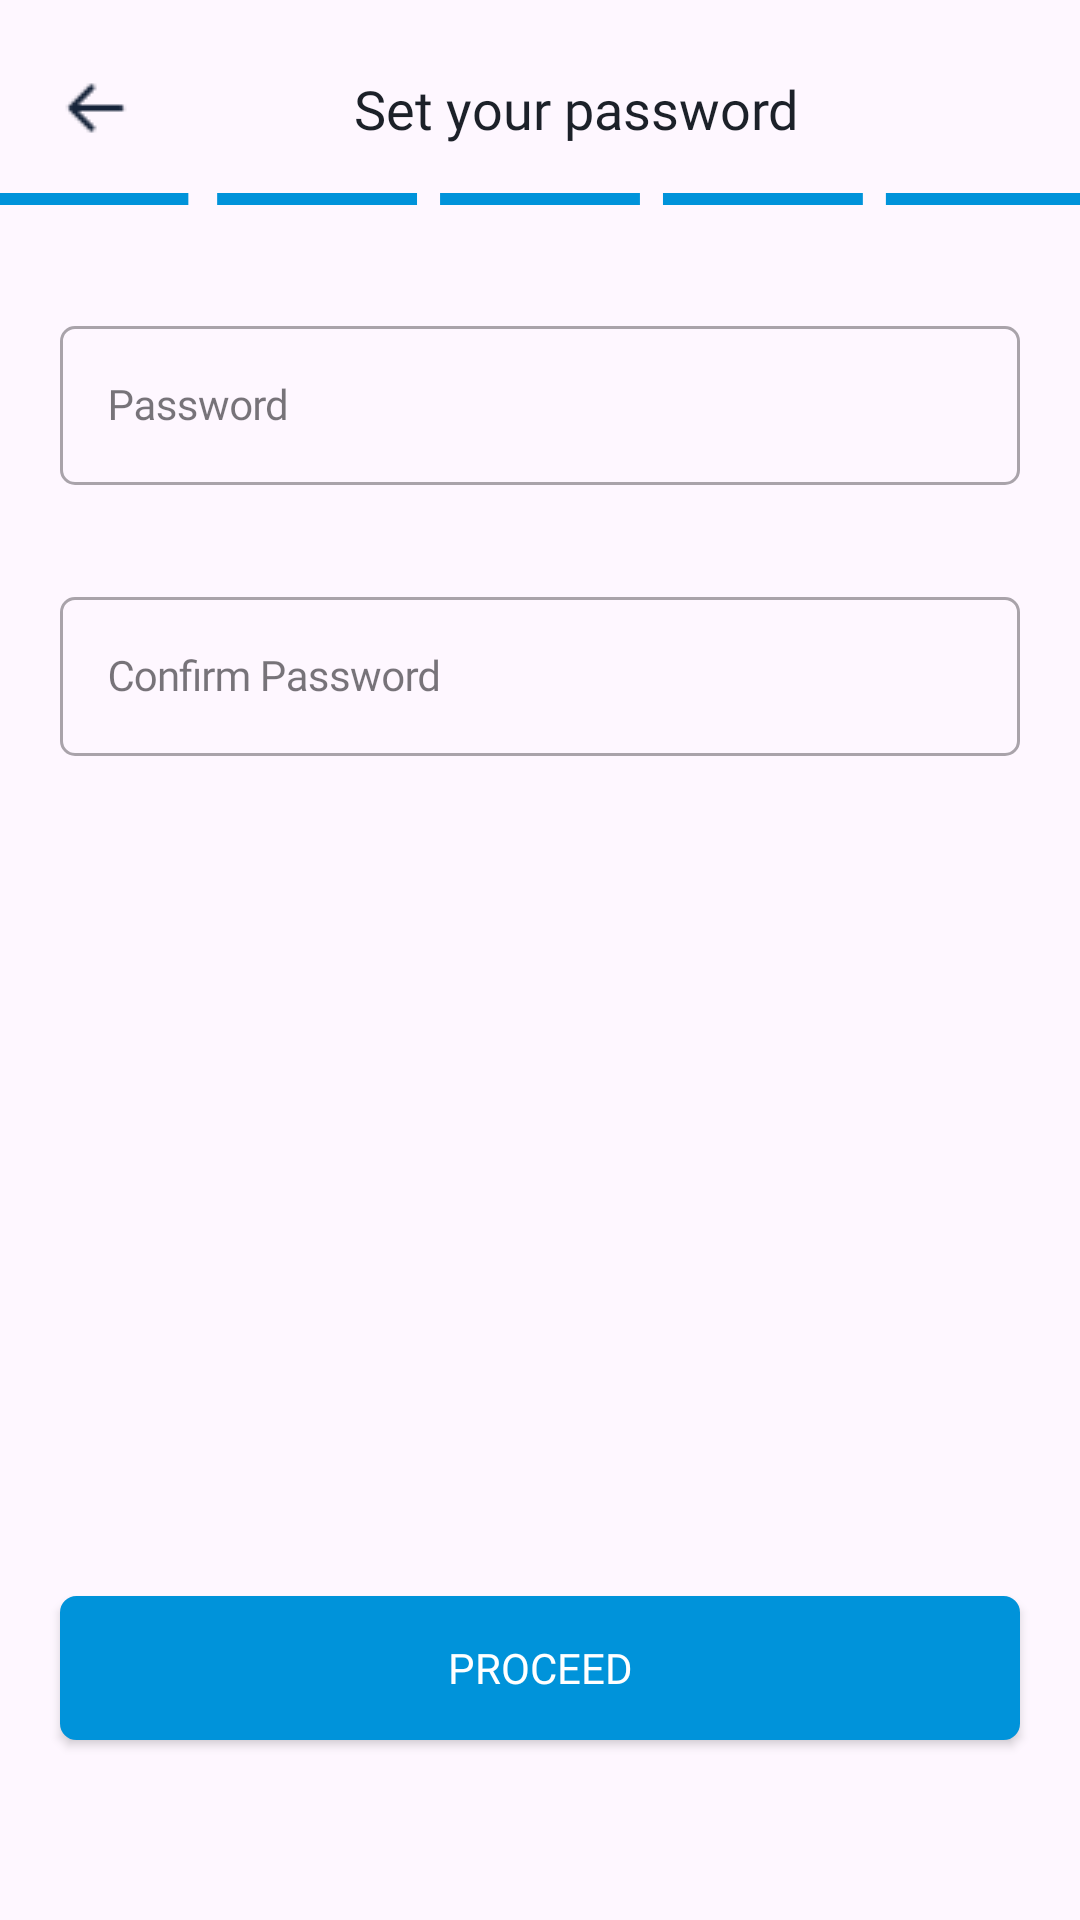

Icon bounding boxes for this 1080*1920 phone screenshot, format (x1, y1, x2, y2):
arrowleft: (67, 83, 125, 133)
